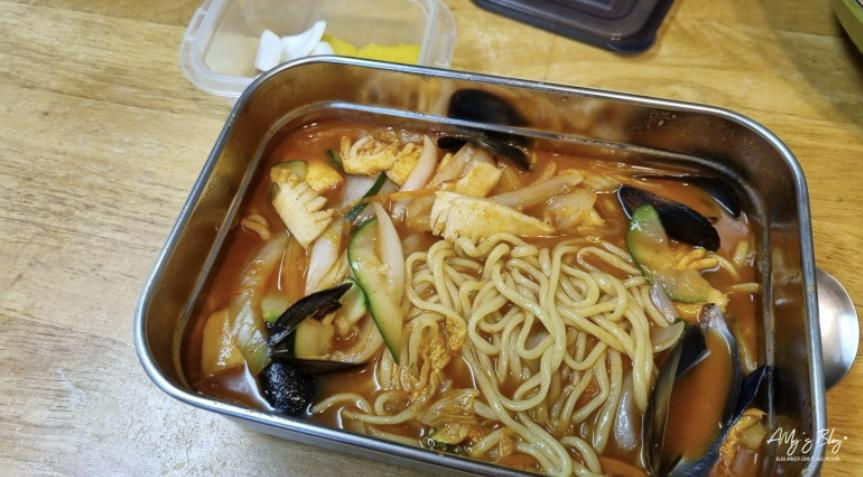Lunch Box: (134, 57, 824, 476), (179, 0, 455, 104)
